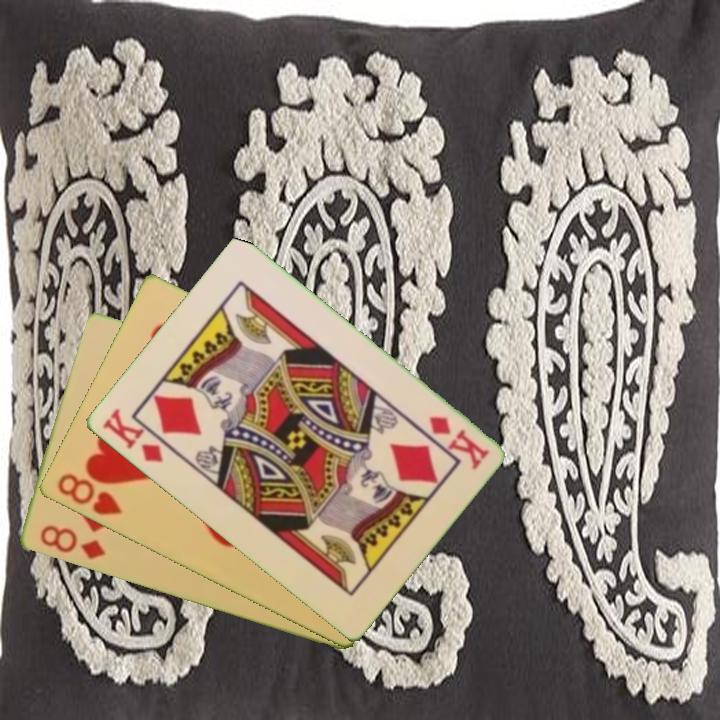8d: (36, 521, 108, 563)
8h: (53, 470, 124, 519)
Kd: (98, 404, 166, 466), (424, 412, 492, 472)
